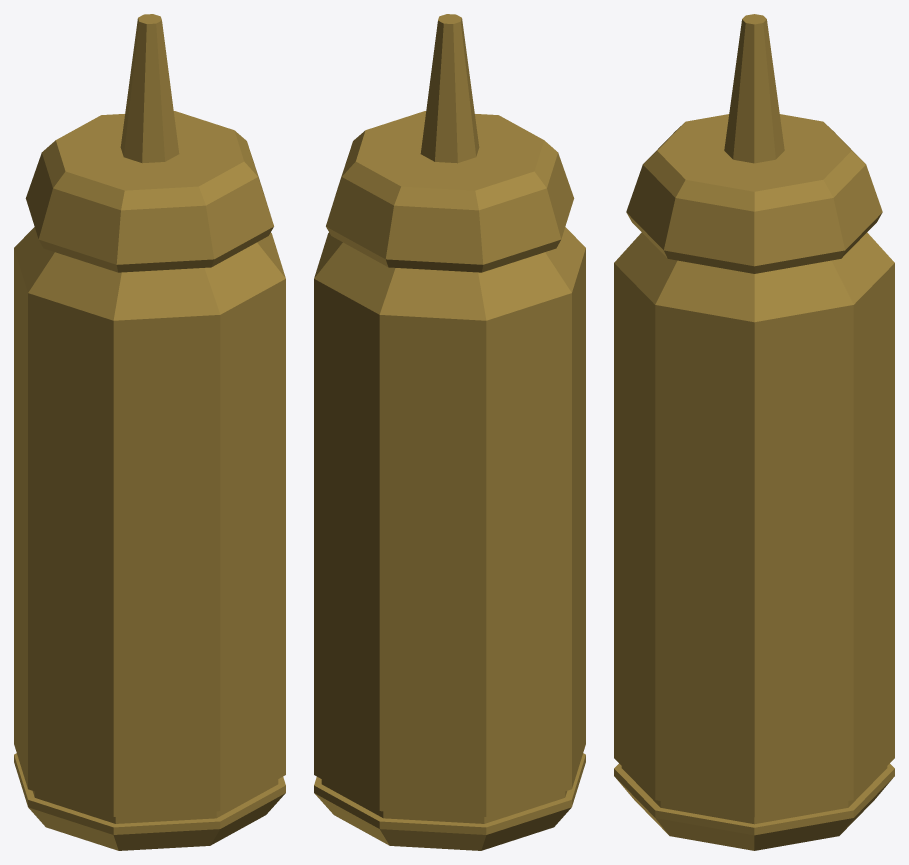
Rendered from food-MustardBottle.glb.
The picture shows the model from 3 angles, left to right: view 1: azimuth 30°, elevation 25°; view 2: azimuth 150°, elevation 25°; view 3: azimuth 270°, elevation 25°; orthographic projection.
Parts seen in each view (by area): view 1: MustardBottle; view 2: MustardBottle; view 3: MustardBottle.
Boxes of the visible parts, x1=… form: MustardBottle: x1=14, y1=14, x2=285, y2=850; MustardBottle: x1=314, y1=14, x2=585, y2=850; MustardBottle: x1=614, y1=14, x2=894, y2=850.
Size of the model in its own units: 0.4996 by 1.53 by 0.4996.
